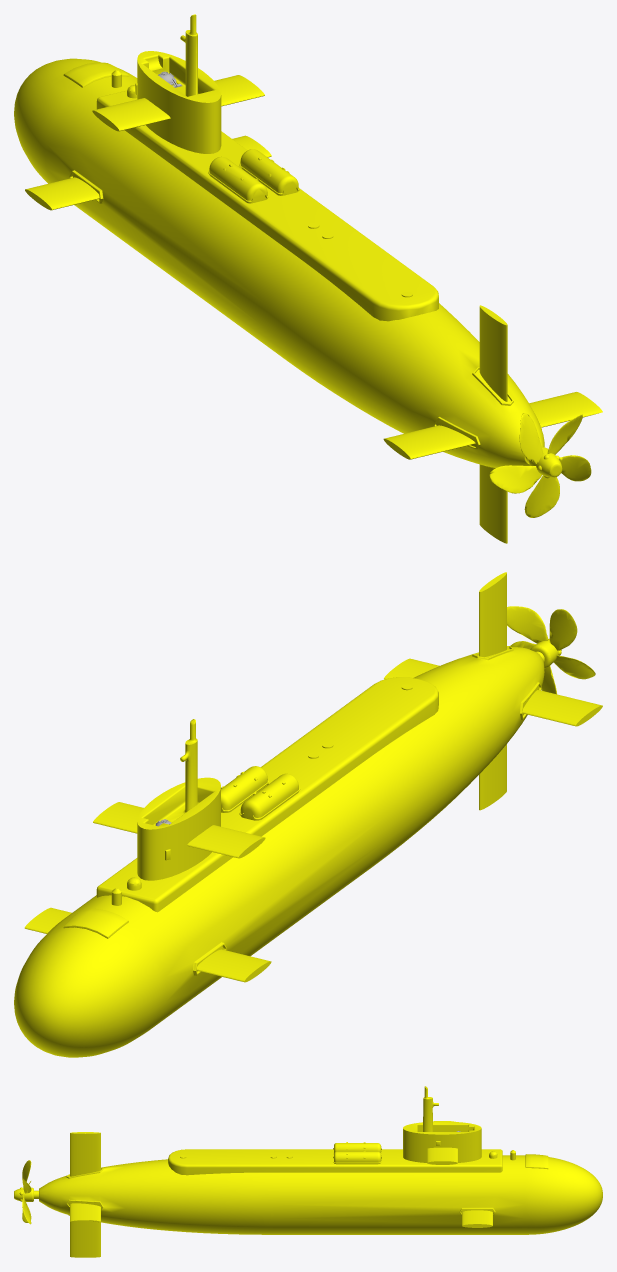
Rendered from submarine.glb.
The picture shows the model from 3 angles, top to bottom: view 1: azimuth 30°, elevation 25°; view 2: azimuth 150°, elevation 25°; view 3: azimuth 270°, elevation 25°; orthographic projection. The views are drawn at different scales.
Parts seen in each view (by area): view 1: Cylinder, Cylinder.001; view 2: Cylinder, Cylinder.001; view 3: Cylinder, Cylinder.001.
Part boxes in pixels (box(x1,y1,x2,y2)): Cylinder: box(14, 51, 544, 468); Cylinder.001: box(25, 14, 602, 543); Cylinder: box(14, 646, 544, 1057); Cylinder.001: box(24, 572, 602, 982); Cylinder: box(39, 1121, 602, 1234); Cylinder.001: box(14, 1086, 515, 1257).
Size of the model in its own units: 3.61 by 4.72 by 14.76.
